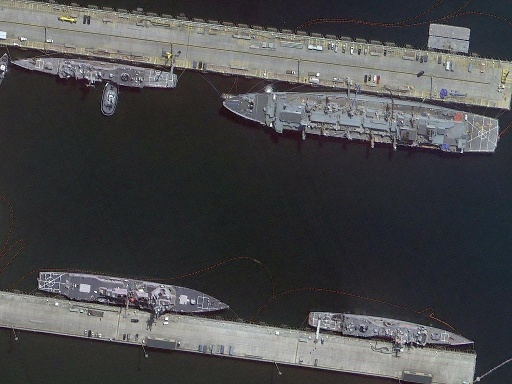ship: (219, 79, 502, 159), (35, 267, 231, 319), (307, 307, 478, 353), (8, 51, 179, 90)
